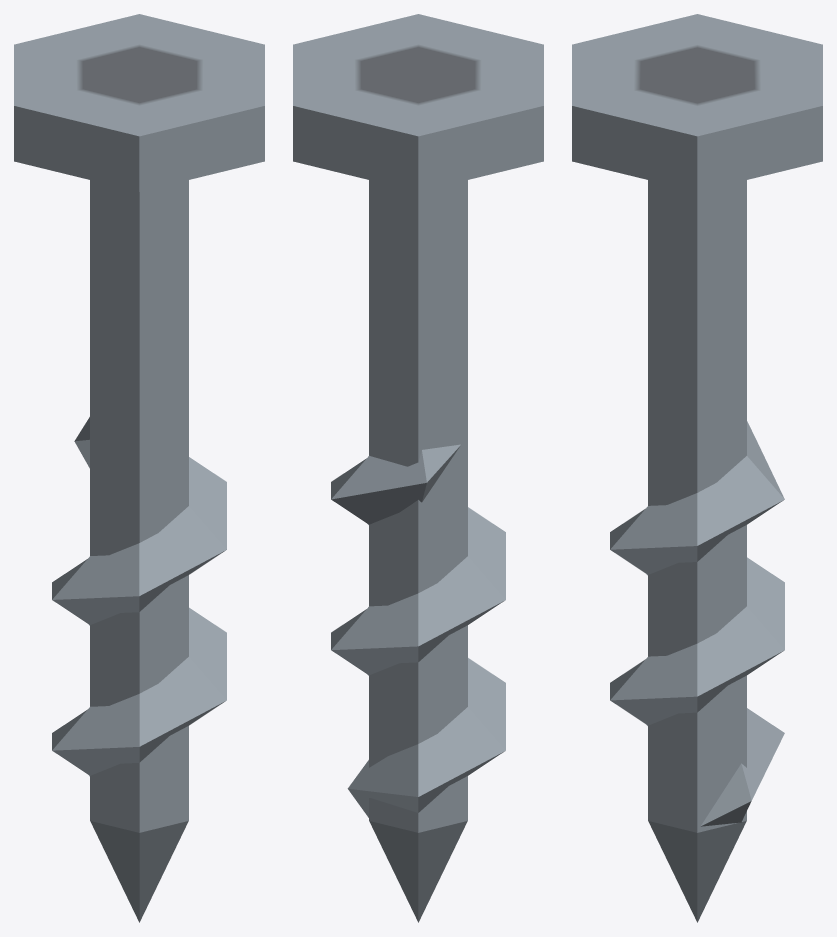
The model's file is SM_Item_Screw_04.fbx.
3 views of the same model, side by side, from view 1: azimuth 30°, elevation 25°; view 2: azimuth 150°, elevation 25°; view 3: azimuth 270°, elevation 25° (orthographic).
Parts seen in each view (by area): view 1: SM_Item_Screw_04; view 2: SM_Item_Screw_04; view 3: SM_Item_Screw_04.
Boxes of the visible parts, x1,y1,x2,y2 form: SM_Item_Screw_04: (14, 14, 264, 922); SM_Item_Screw_04: (293, 14, 543, 922); SM_Item_Screw_04: (572, 14, 822, 922).
Size of the model in its own units: 3.87 by 12.51 by 3.35.
